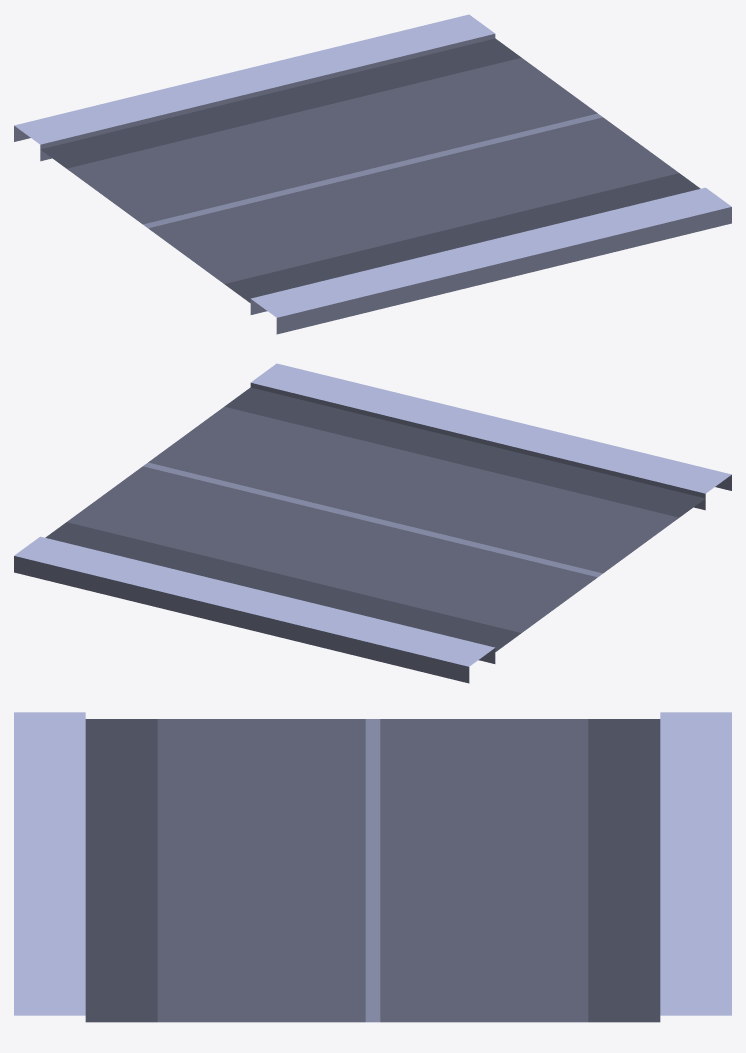
Rendered from road-straight.glb.
The picture shows the model from 3 angles, top to bottom: view 1: azimuth 30°, elevation 25°; view 2: azimuth 150°, elevation 25°; view 3: azimuth 270°, elevation 25°; orthographic projection. The views are drawn at different scales.
Parts seen in each view (by area): view 1: road-straight; view 2: road-straight; view 3: road-straight.
Part boxes in pixels (<box>): road-straight: <box>14,14,731,334</box>; road-straight: <box>14,363,731,683</box>; road-straight: <box>14,712,731,1022</box>.
Size of the model in its own units: 1 by 0.035 by 1.
1 material, 1 textured.
